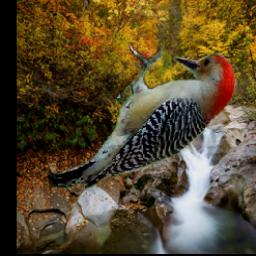Woodpecker: (49, 42, 237, 192)
